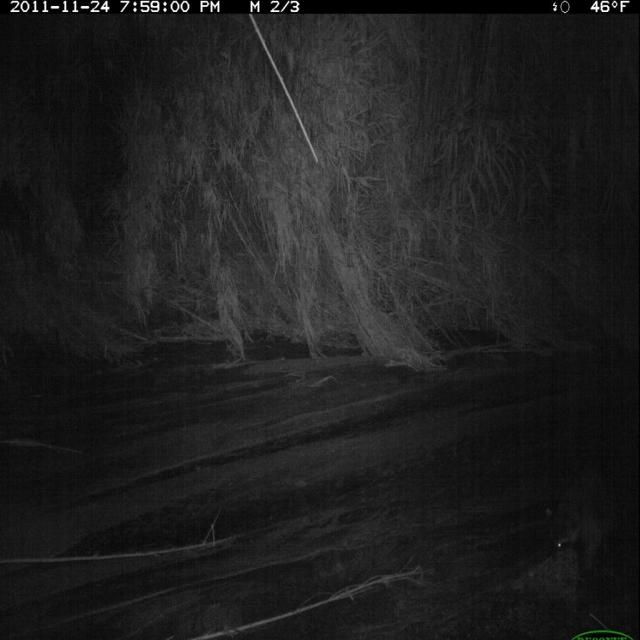raccoon: (537, 440, 640, 591)
